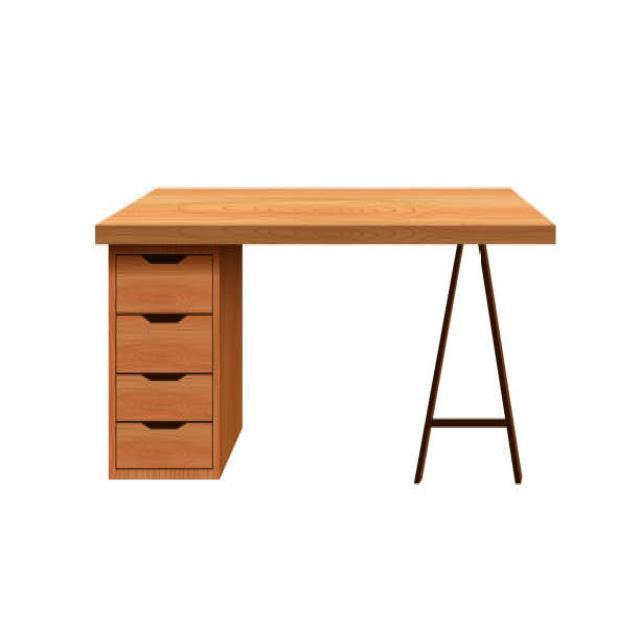table: (94, 183, 556, 484)
